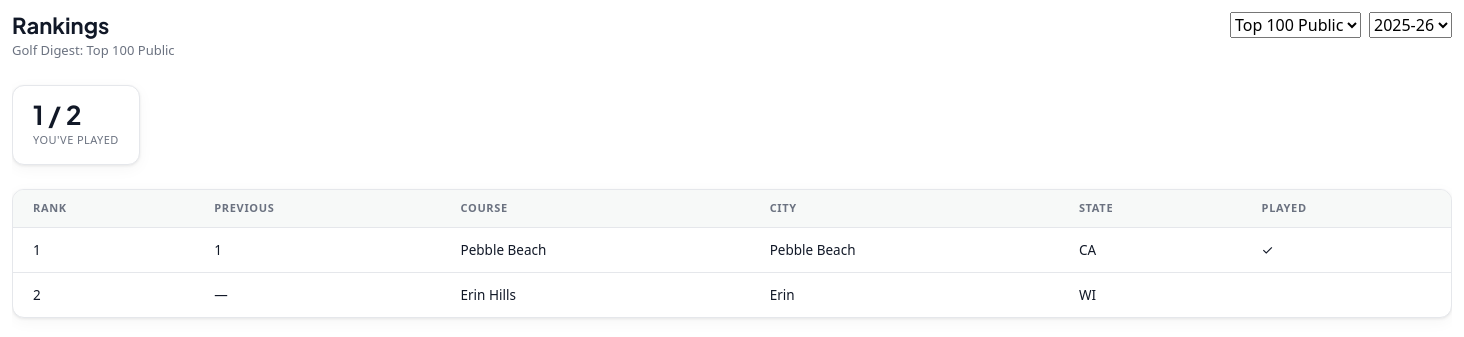
Test: Rankings › clears the table when switching to a list with no editions
Expected: the text "1 / 2" is shown, [33,98,81,131]
Select "Empty List" in the dropdown named "Ranking list" at (1296, 25), box [1230,12,1361,38]
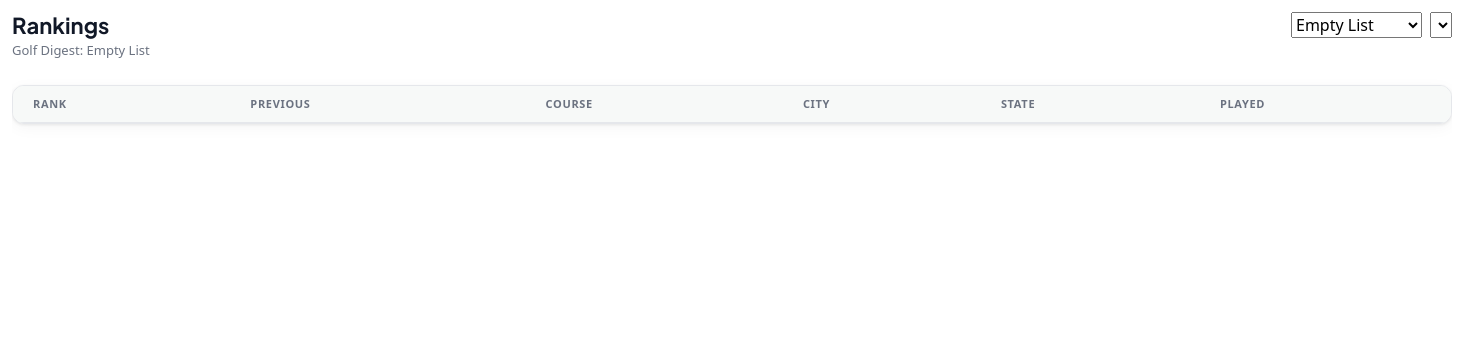
Expected: the text "1 / 2" is gone
Expected: the text "Pebble Beach" is gone
